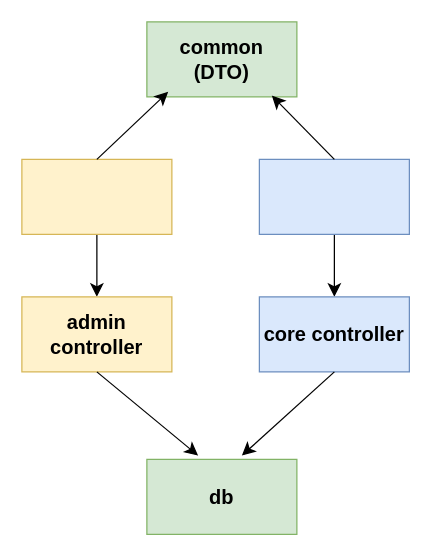
The diagram is 431 pixels wide and 556 high, and some of its shapes have lost their labels. The shapes that lost their labels are listed below. From the top down, each one's box as (x1, y1, x2, y2) in pixels, then its label:
(21, 158, 172, 234): admin (Flask)
(258, 158, 409, 234): ui (Qt)
